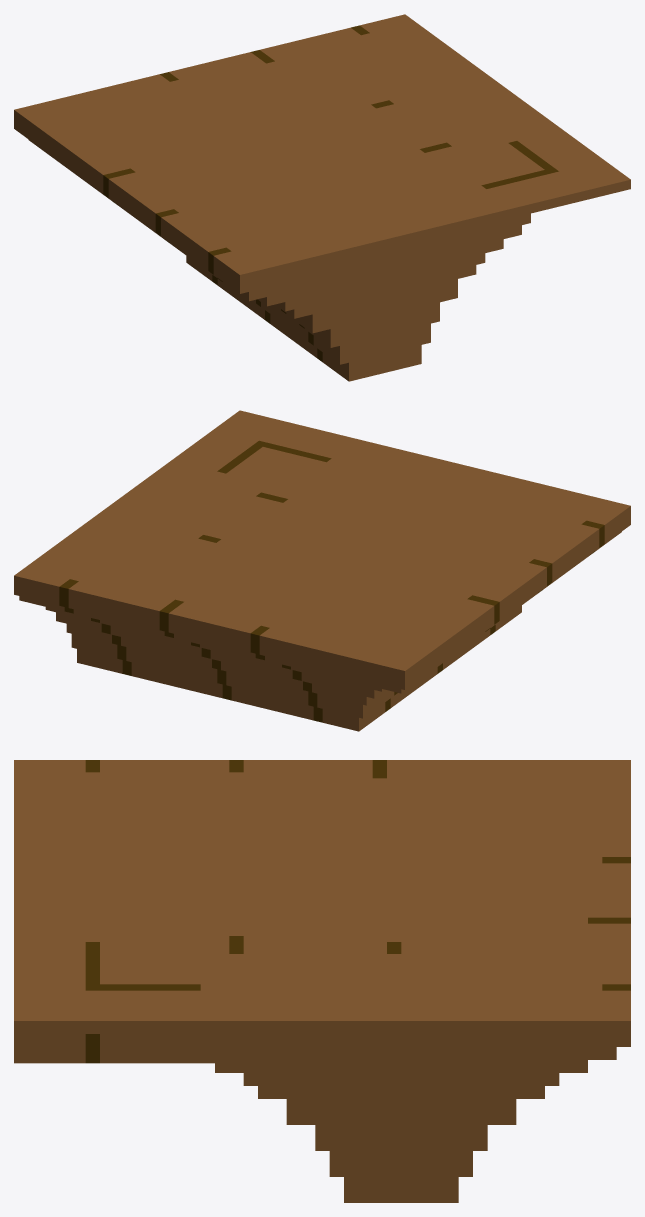
The model's file is GameAsset-2.obj.
3 renders of one model, top to bottom at view 1: azimuth 30°, elevation 25°; view 2: azimuth 150°, elevation 25°; view 3: azimuth 270°, elevation 25°, orthographic. The views are drawn at different scales.
Bounding box in the file's own units: 4.3 × 1.4 × 4.3.
Materials: 1 (1 with a texture image).
